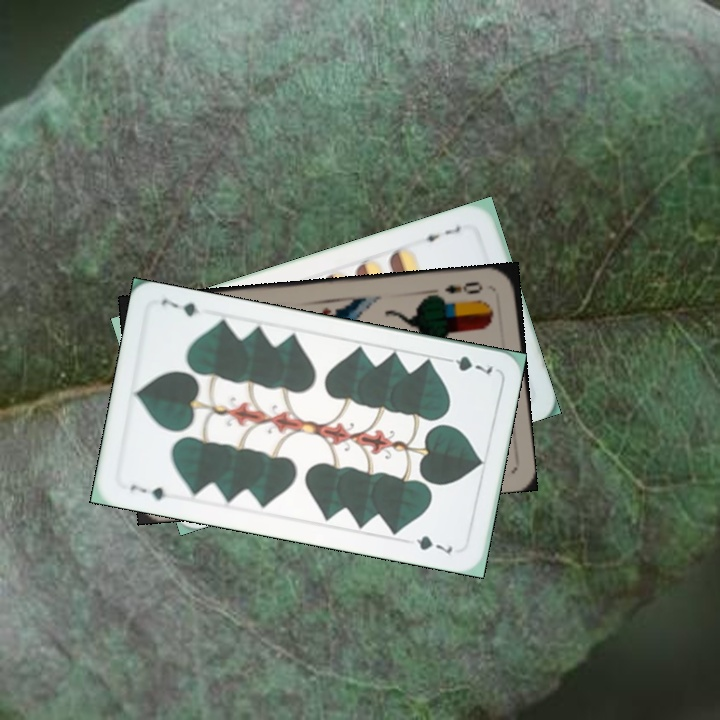E7: (416, 221, 465, 245)
EO: (441, 278, 485, 297)
G7: (438, 352, 495, 377), (126, 480, 176, 503)
